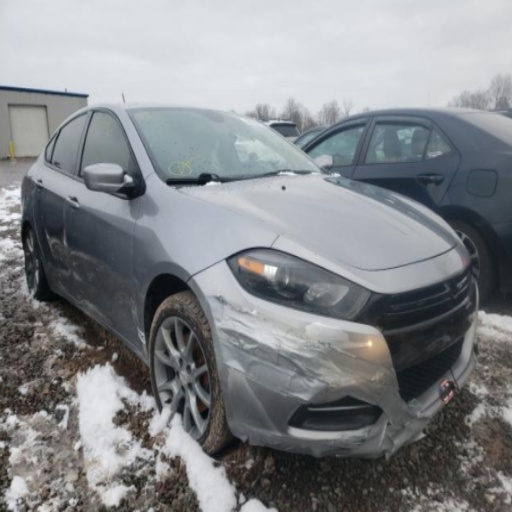scratch: (138, 327, 145, 344)
